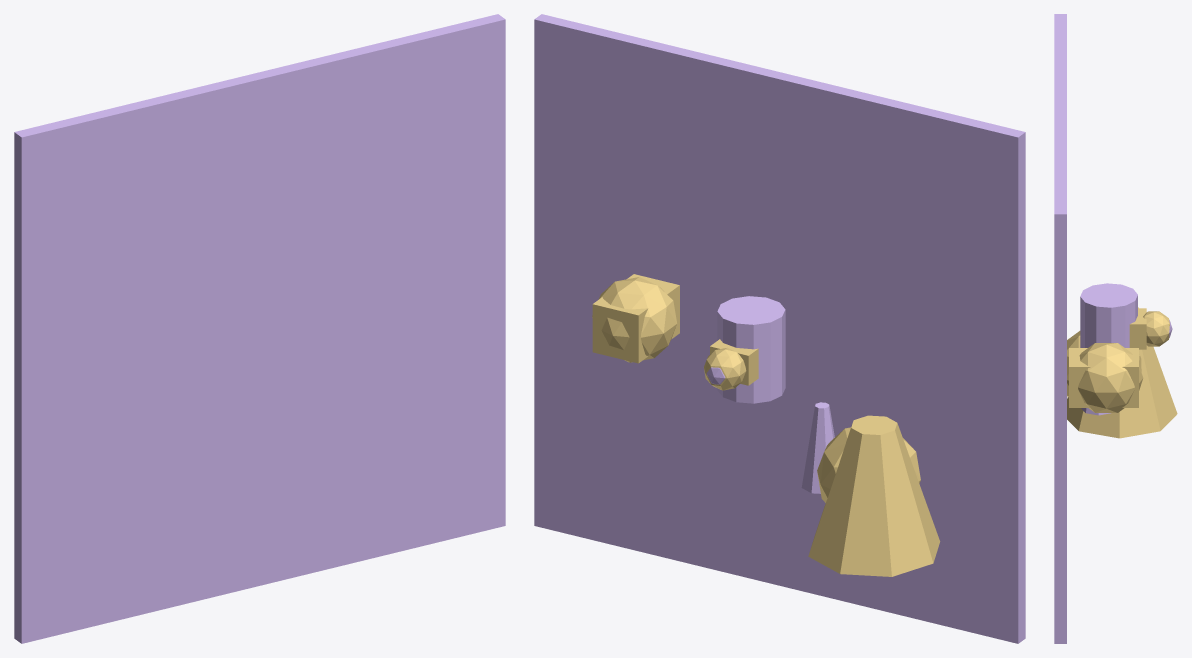
Rendered from deep-ocean-survival-kit.glb.
3 renders of one model, left to right at view 1: azimuth 30°, elevation 25°; view 2: azimuth 150°, elevation 25°; view 3: azimuth 270°, elevation 25°, orthographic. The views are drawn at different scales.
Visible parts, largest first — view 1: ENVIRONMENT_GROUND; view 2: ENVIRONMENT_GROUND, ENVIRONMENT_LANDMARK, PLAYER_BODY, OBSTACLE, PROFILE_OBSTACLE_DETAIL, PROFILE_ENVIRONMENT_SPIRE, PROFILE_ENVIRONMENT_DETAIL, PLAYER_CORE, PROFILE_PLAYER_DETAIL; view 3: ENVIRONMENT_GROUND, ENVIRONMENT_LANDMARK, OBSTACLE, PLAYER_BODY, PROFILE_OBSTACLE_DETAIL, PLAYER_CORE, PROFILE_PLAYER_DETAIL, PROFILE_ENVIRONMENT_DETAIL.
Part boxes in pixels (x1,y1,x2,y2): ENVIRONMENT_GROUND: (14, 14, 505, 643); ENVIRONMENT_GROUND: (534, 14, 1025, 643); ENVIRONMENT_LANDMARK: (808, 415, 940, 576); PLAYER_BODY: (717, 296, 785, 403); OBSTACLE: (592, 277, 676, 362); PROFILE_OBSTACLE_DETAIL: (592, 274, 679, 363); PROFILE_ENVIRONMENT_SPIRE: (801, 402, 834, 493); PROFILE_ENVIRONMENT_DETAIL: (817, 427, 920, 502); PLAYER_CORE: (704, 347, 746, 390); PROFILE_PLAYER_DETAIL: (710, 339, 758, 385); ENVIRONMENT_GROUND: (1054, 14, 1066, 643); ENVIRONMENT_LANDMARK: (1067, 307, 1177, 438); OBSTACLE: (1078, 343, 1143, 412); PLAYER_BODY: (1080, 283, 1137, 347); PROFILE_OBSTACLE_DETAIL: (1069, 348, 1138, 407); PLAYER_CORE: (1143, 311, 1169, 346); PROFILE_PLAYER_DETAIL: (1129, 308, 1146, 349); PROFILE_ENVIRONMENT_DETAIL: (1067, 331, 1141, 397).
Size of what is drawn, in the model's own units: 9 by 9 by 2.34.
